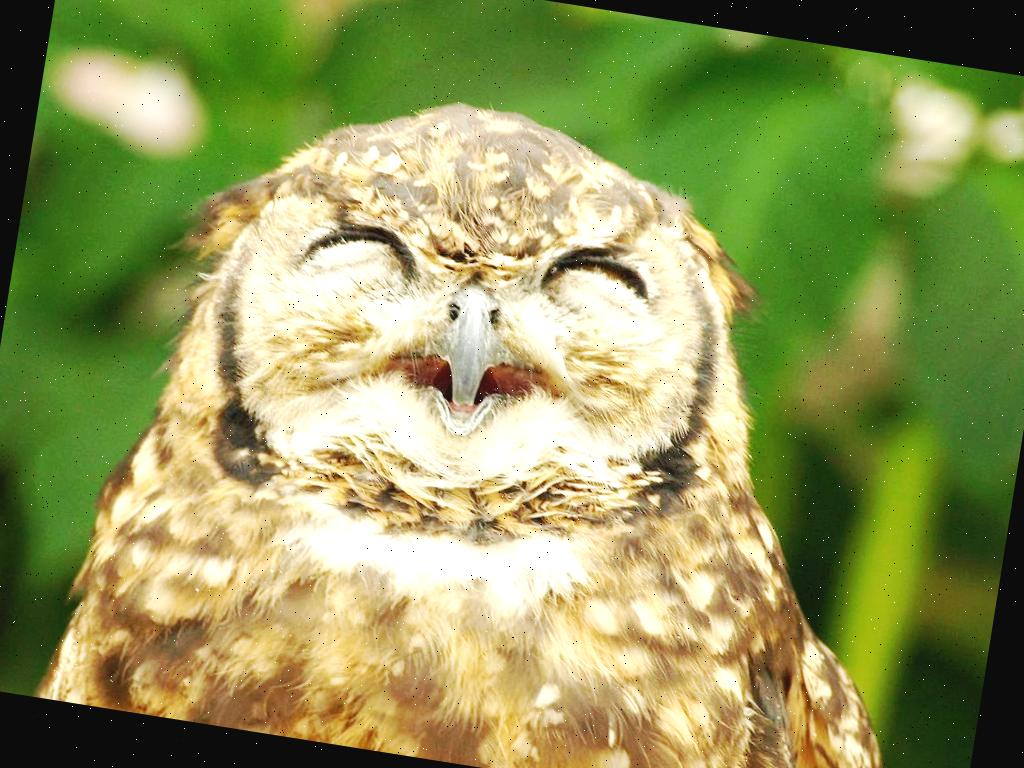Owl: (36, 49, 1024, 768)
